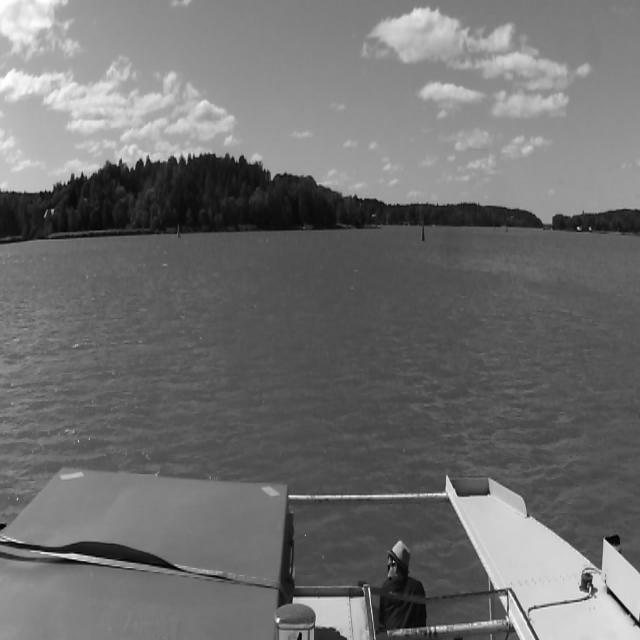buoy: (421, 223, 425, 241), (177, 223, 179, 237)
